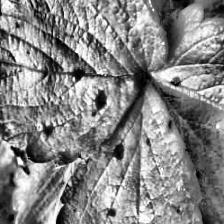Leaf Spot: (0, 0, 170, 169), (53, 76, 207, 224), (146, 3, 224, 224), (0, 171, 20, 224)
